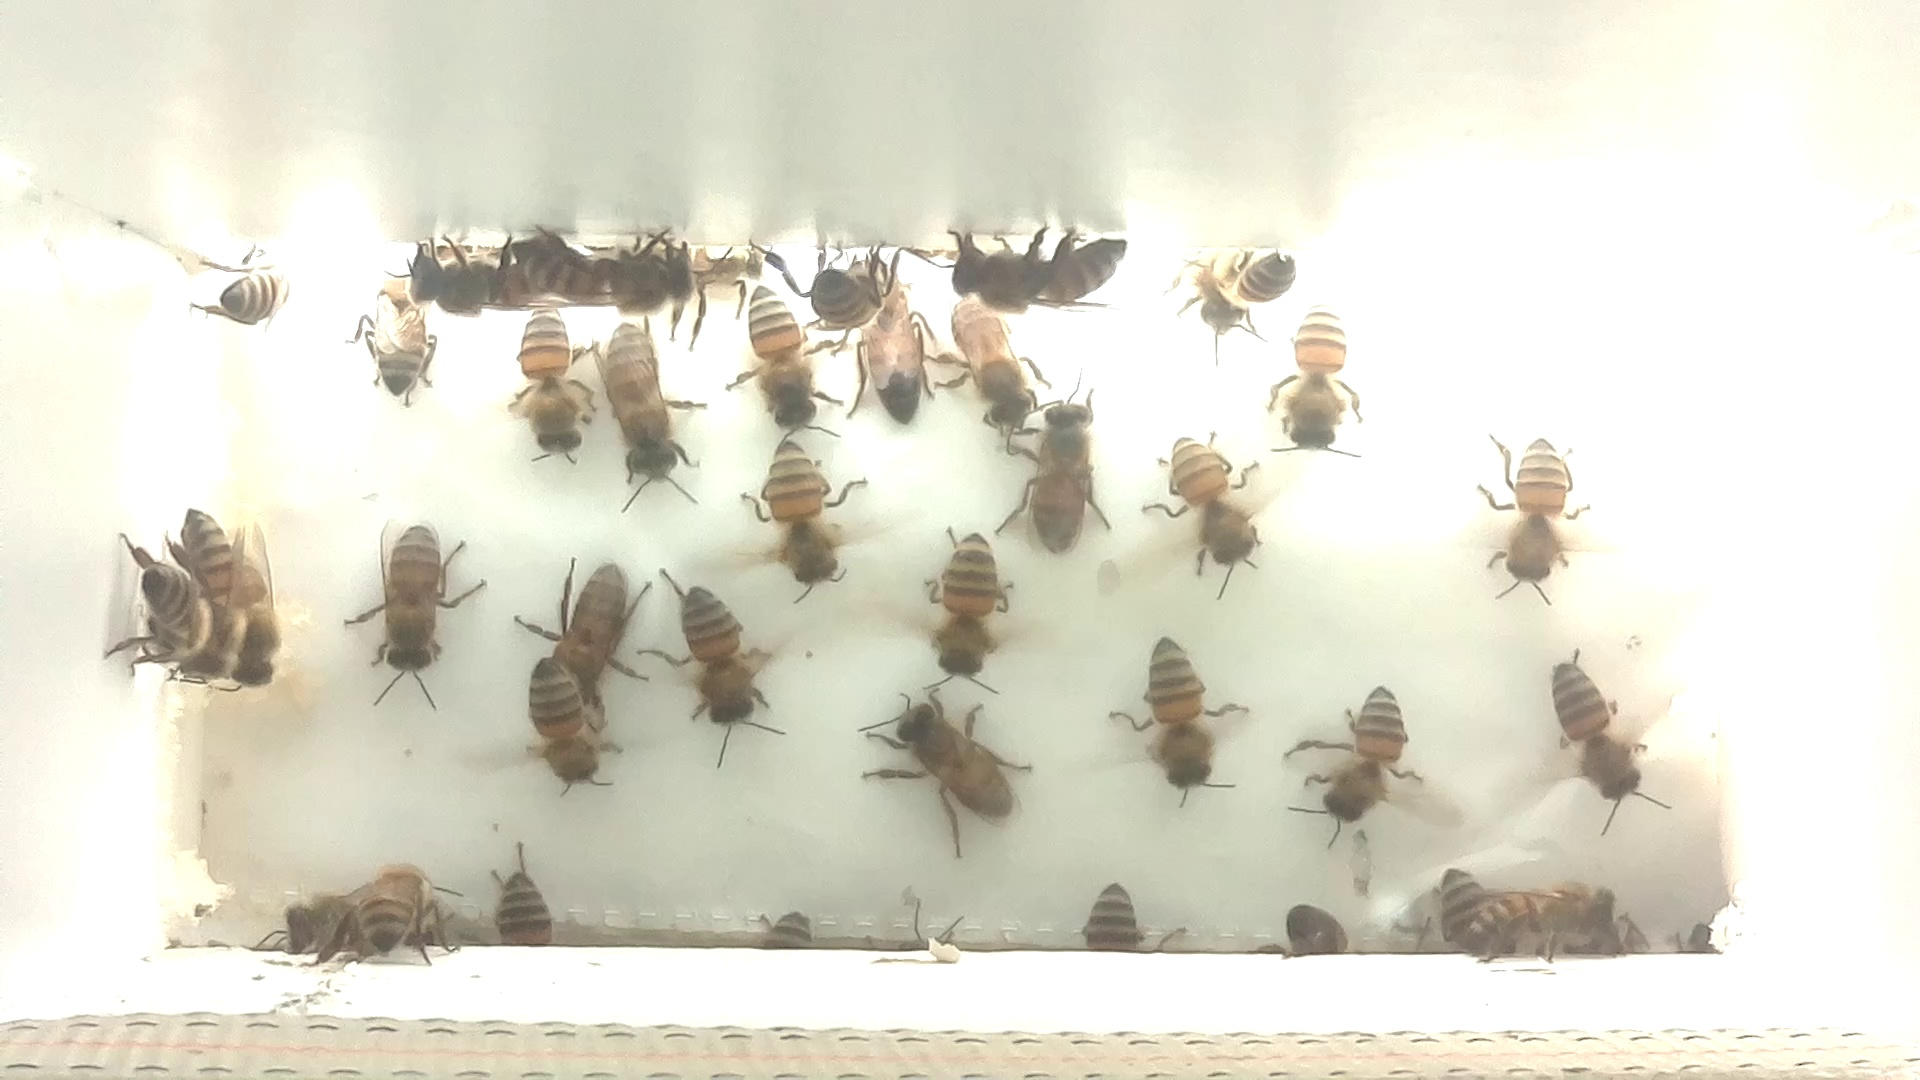bee: (835, 671, 1051, 864), (1490, 626, 1691, 824), (1080, 618, 1265, 814), (634, 564, 808, 770), (339, 495, 487, 720), (153, 481, 301, 699), (1124, 415, 1294, 597), (1458, 404, 1604, 615), (1269, 651, 1428, 840), (895, 501, 1031, 709), (578, 299, 704, 516), (520, 541, 659, 716), (992, 373, 1118, 564), (1249, 289, 1379, 473), (738, 430, 876, 605), (94, 531, 236, 694), (936, 210, 1134, 323), (719, 278, 844, 455), (500, 653, 636, 814), (928, 285, 1064, 440), (491, 278, 593, 475), (833, 255, 942, 436), (328, 841, 465, 975), (348, 233, 448, 405), (396, 220, 556, 324), (1460, 876, 1629, 975), (531, 228, 700, 323), (770, 225, 895, 340), (471, 836, 582, 963), (183, 233, 305, 343), (1178, 225, 1313, 323), (1069, 869, 1180, 975), (1415, 853, 1503, 968), (1241, 885, 1356, 967), (278, 886, 400, 957), (742, 887, 825, 957)
